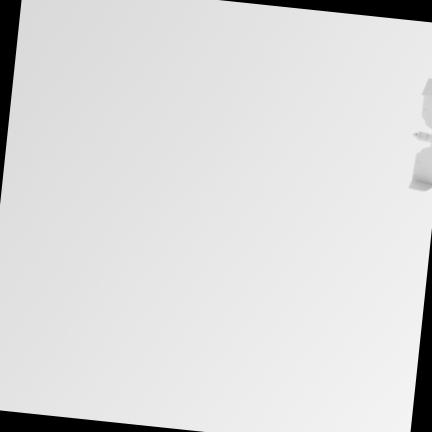Shahed: (409, 77, 432, 192)
